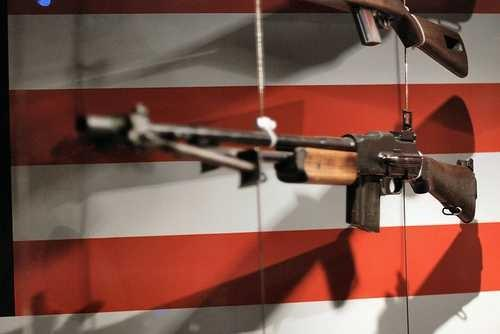heavyweapon: (65, 94, 482, 249)
